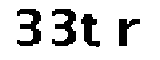3: (9, 4, 43, 51), (47, 6, 79, 51)
r: (114, 14, 142, 50)
t: (80, 11, 106, 50)
